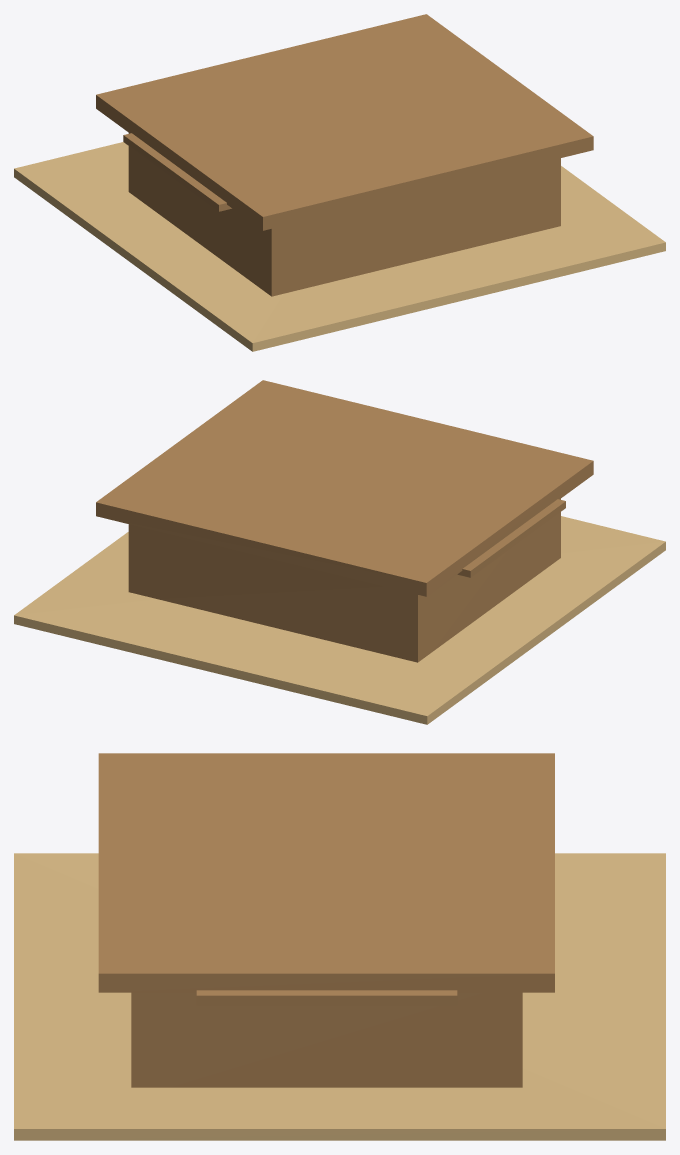
Rendered from Solar-array.glb.
The picture shows the model from 3 angles, top to bottom: view 1: azimuth 30°, elevation 25°; view 2: azimuth 150°, elevation 25°; view 3: azimuth 270°, elevation 25°; orthographic projection. The views are drawn at different scales.
Parts seen in each view (by area): view 1: solar-array-static-solar-array-teal, solar-array-static-solar-array-earth, solar-array-static-solar-array-wall; view 2: solar-array-static-solar-array-teal, solar-array-static-solar-array-earth, solar-array-static-solar-array-wall; view 3: solar-array-static-solar-array-teal, solar-array-static-solar-array-earth, solar-array-static-solar-array-wall.
Boxes of the visible parts, x1,y1,x2,y2 form: solar-array-static-solar-array-teal: [96, 14, 593, 230]; solar-array-static-solar-array-earth: [14, 142, 665, 351]; solar-array-static-solar-array-wall: [128, 133, 560, 296]; solar-array-static-solar-array-teal: [96, 380, 593, 596]; solar-array-static-solar-array-earth: [14, 516, 665, 724]; solar-array-static-solar-array-wall: [128, 499, 560, 662]; solar-array-static-solar-array-teal: [98, 753, 554, 1005]; solar-array-static-solar-array-earth: [14, 853, 665, 1140]; solar-array-static-solar-array-wall: [131, 992, 522, 1087].
Bounding box in the file's own units: 5 × 1.18 × 5.
